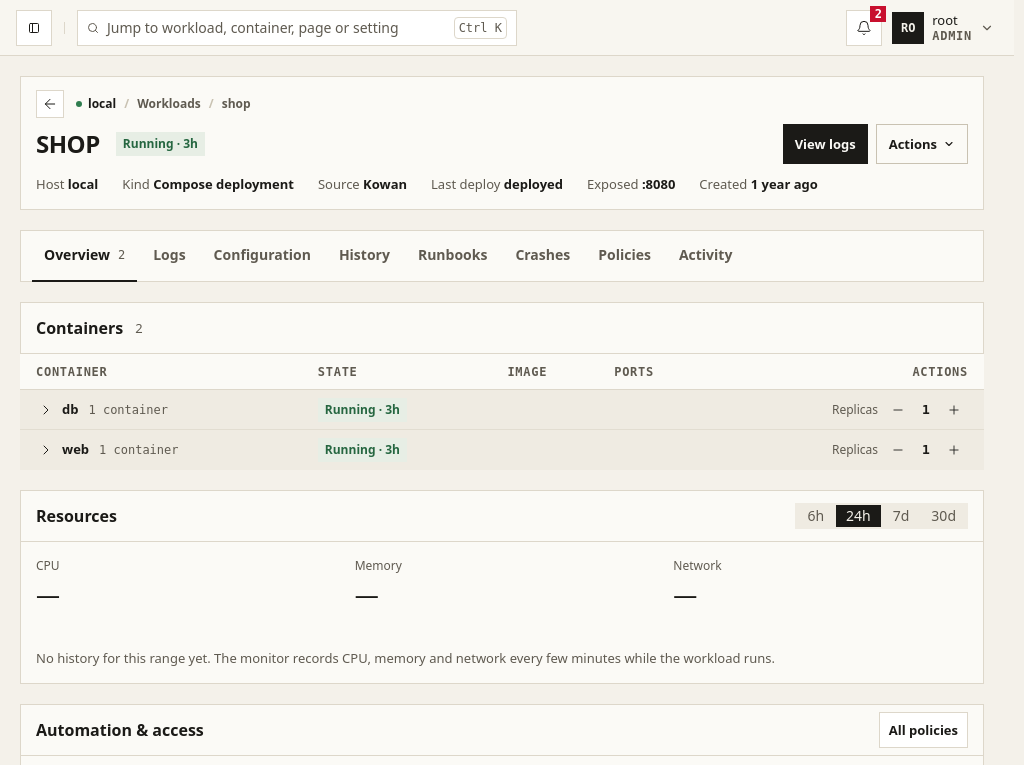
Test: workload policies › reports a failed backup run and opens the job editor
The width and height of the screenshot is (1024, 765).
Expected: the heading "shop" is shown, [36,128,100,160]
Click the tab "Policies" at (625, 256), box [586,230,663,282]
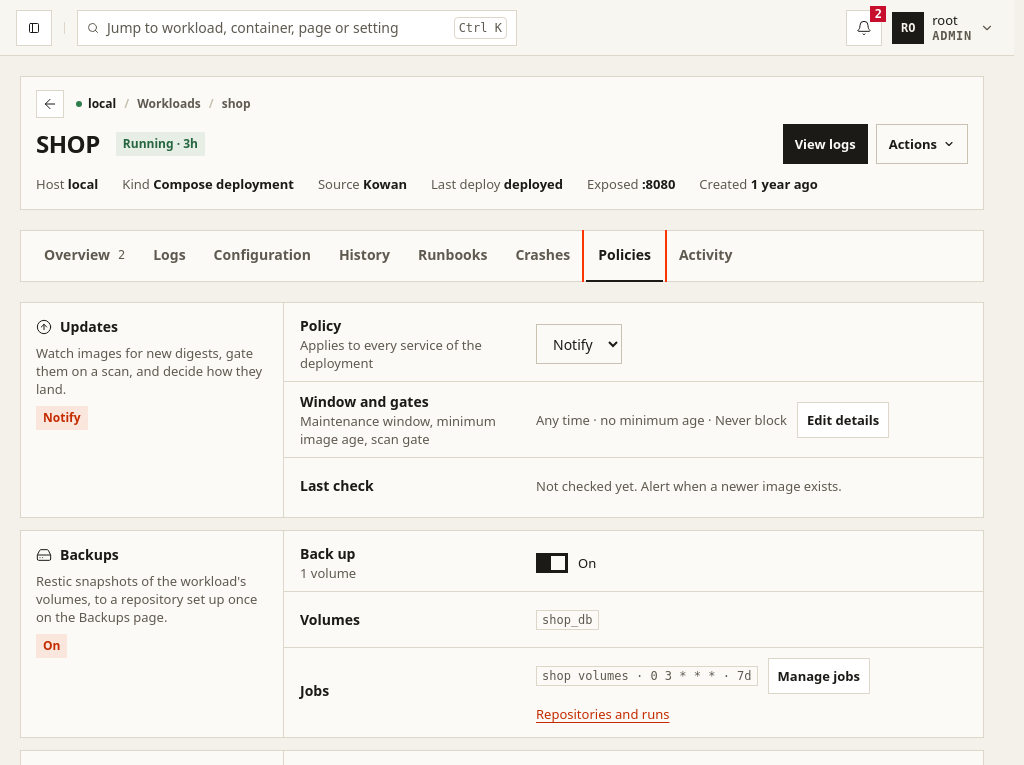
Expected: the dropdown named "update policy for shop" is shown, [536,324,622,364]
Click the button "Manage jobs" at (819, 676), box [768,658,870,694]
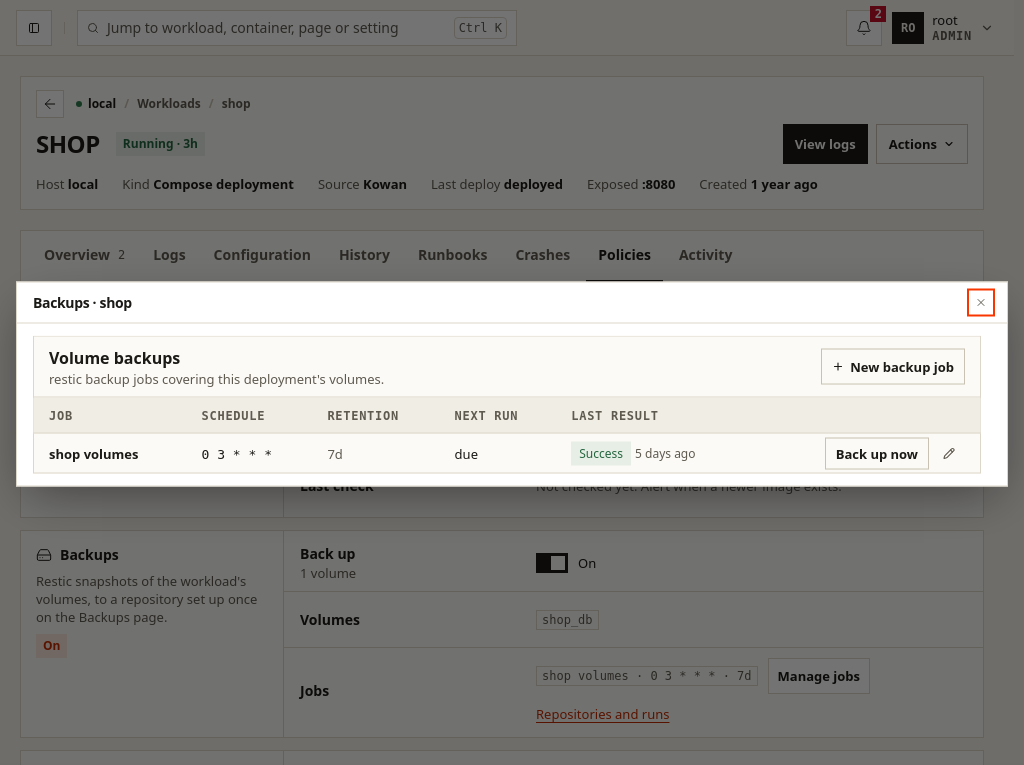
Click the button "Back up now" at (877, 454), box [825,438,929,470]
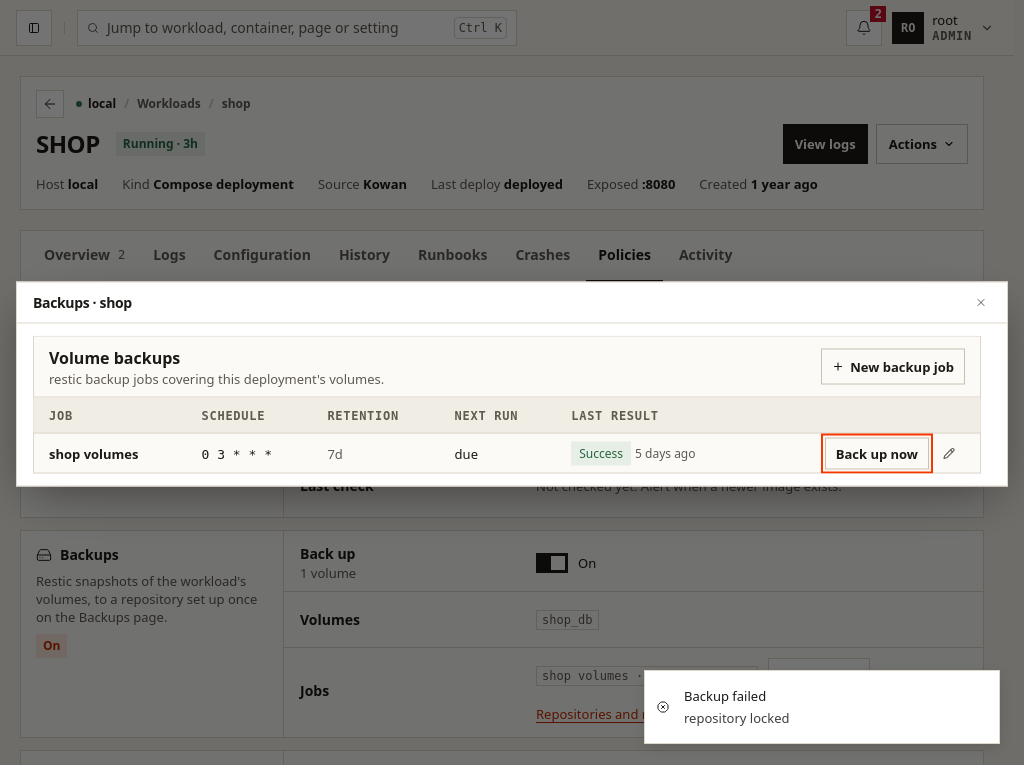
Expected: the text "repository locked" is shown, [684,709,790,727]
Click the button named "Edit" at (949, 454), box [933,438,965,470]
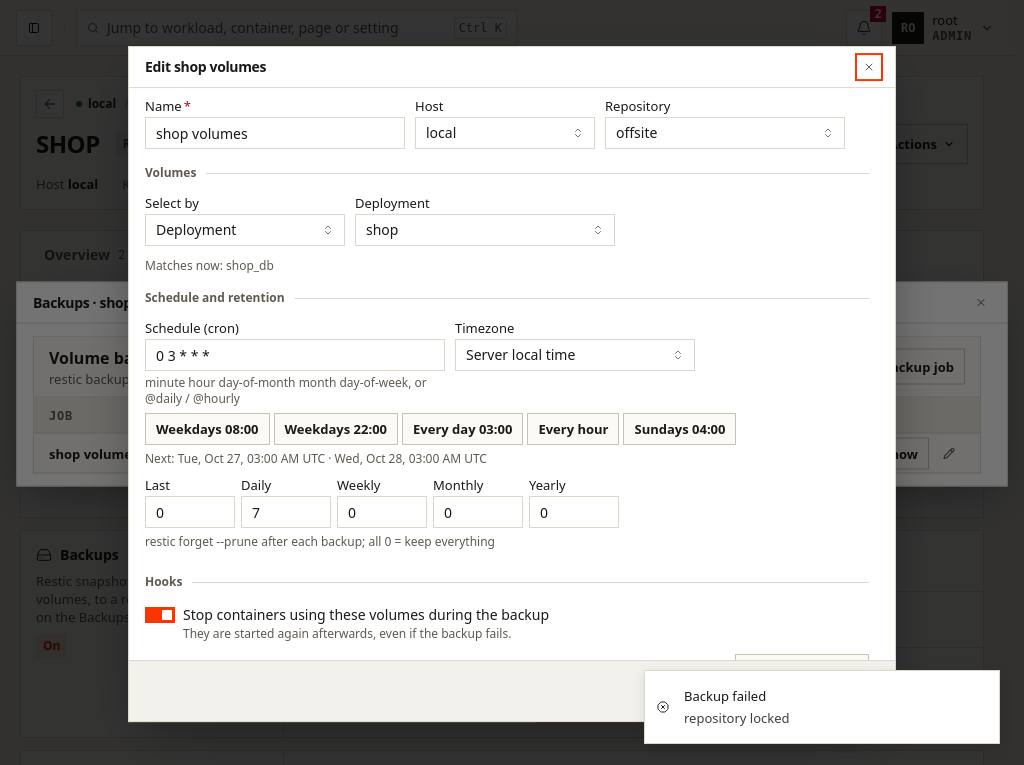
Expected: the dialog "Edit shop volumes" is shown
